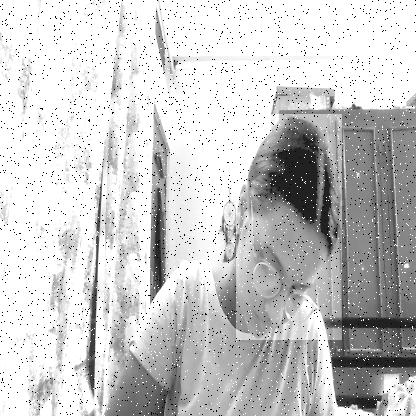Distracted: (236, 114, 342, 340)
